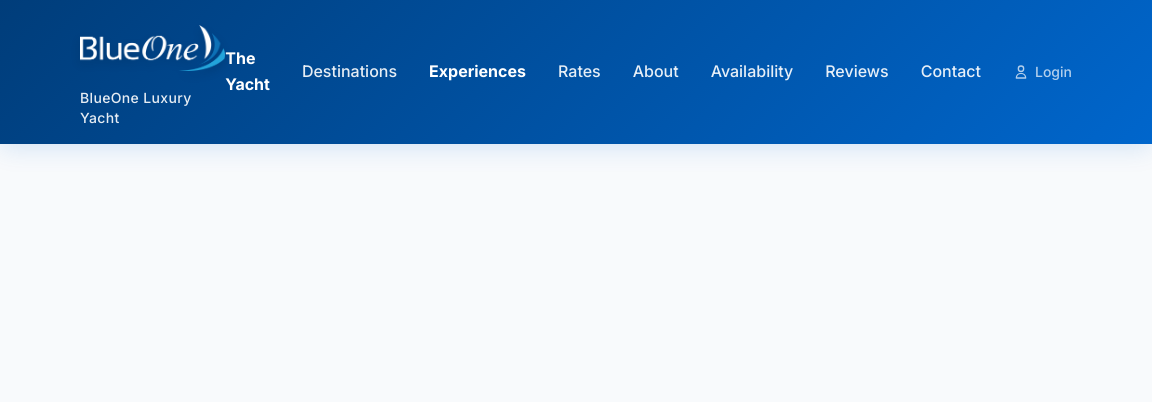
Navigation — Admin Login (unauthenticated) › shows error message "Incorrect username or password." on failed login
The width and height of the screenshot is (1152, 402).
Click the button "Login".
click(1042, 72)  # box [1013,62,1072,82]
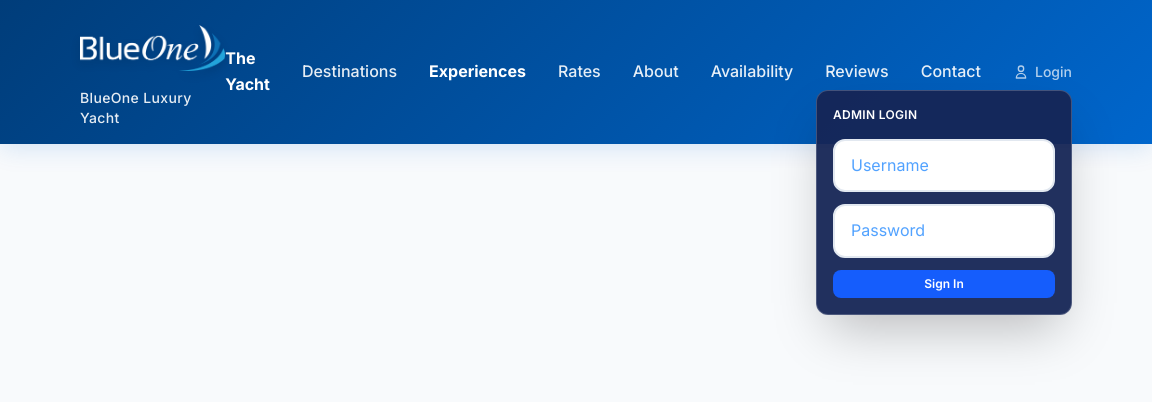
Type "wrong" into the field with placeholder "Username".
click(944, 166); type("wrong")  # box [833,139,1055,192]
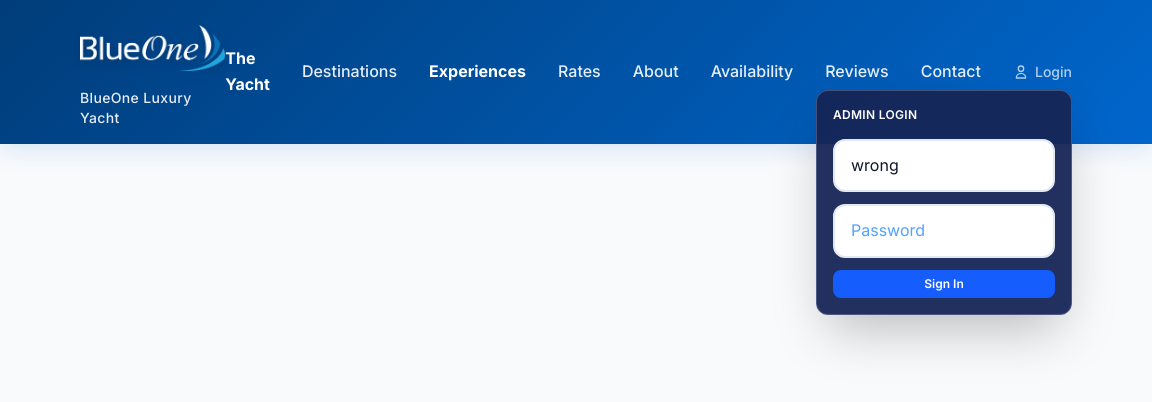
Type "wrong" into the password field with placeholder "Password".
click(944, 231); type("wrong")  # box [833,204,1055,258]
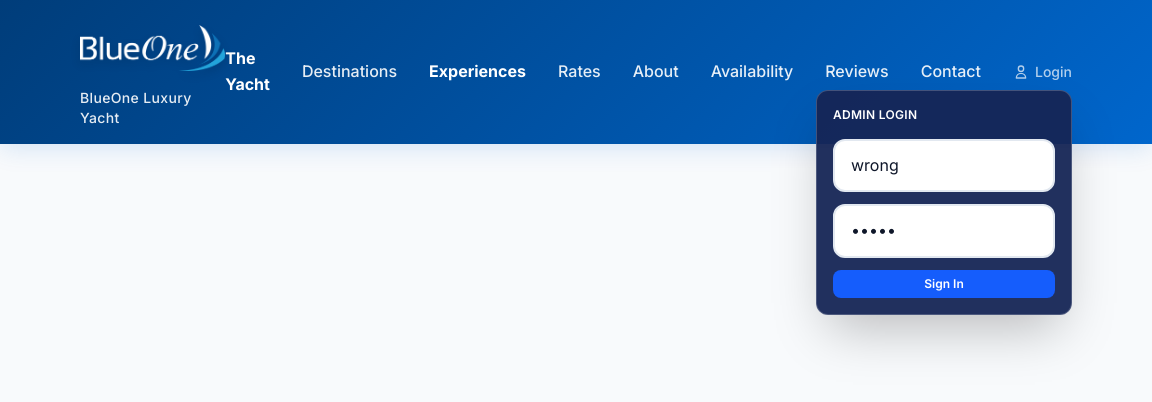
Submit the form "Admin Login Sign In", box [816,90,1072,315]
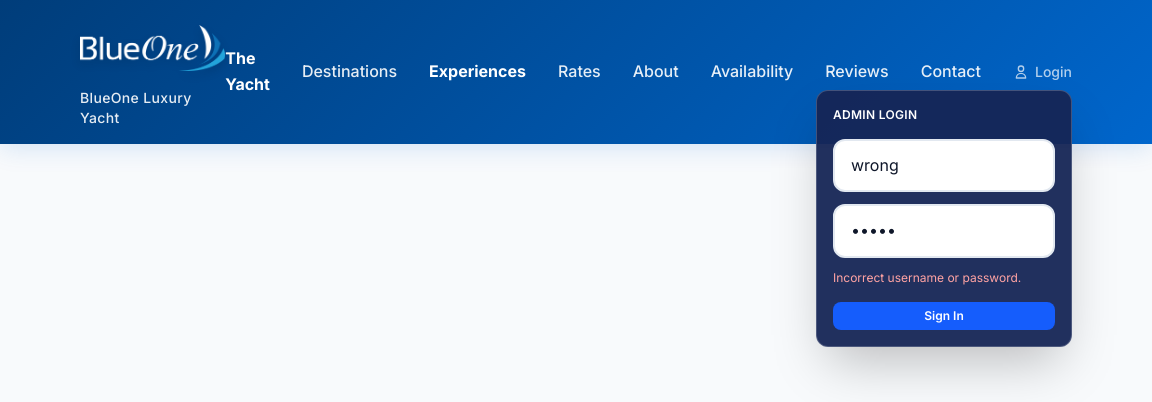
Now the text "Incorrect username or password." is shown, box [833,270,1021,285]
